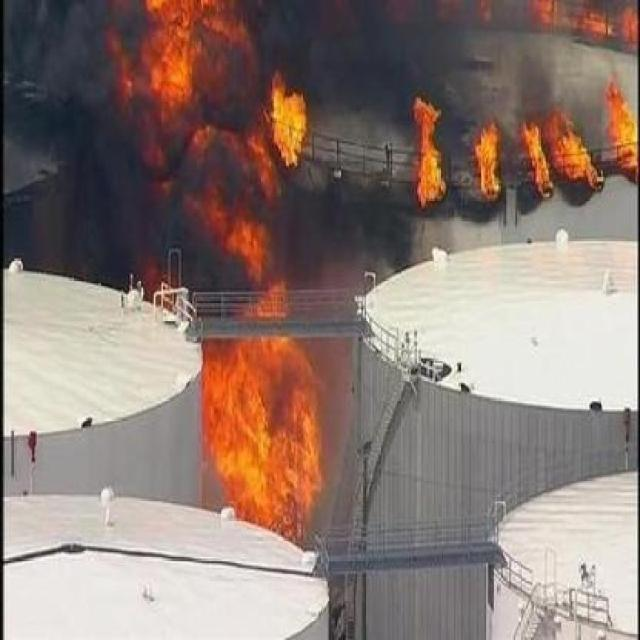Fire: (117, 0, 328, 545), (332, 1, 640, 44), (410, 95, 452, 205), (552, 112, 601, 188), (606, 72, 639, 176), (520, 118, 552, 194), (476, 122, 500, 202)
Smoke: (5, 2, 109, 280)
